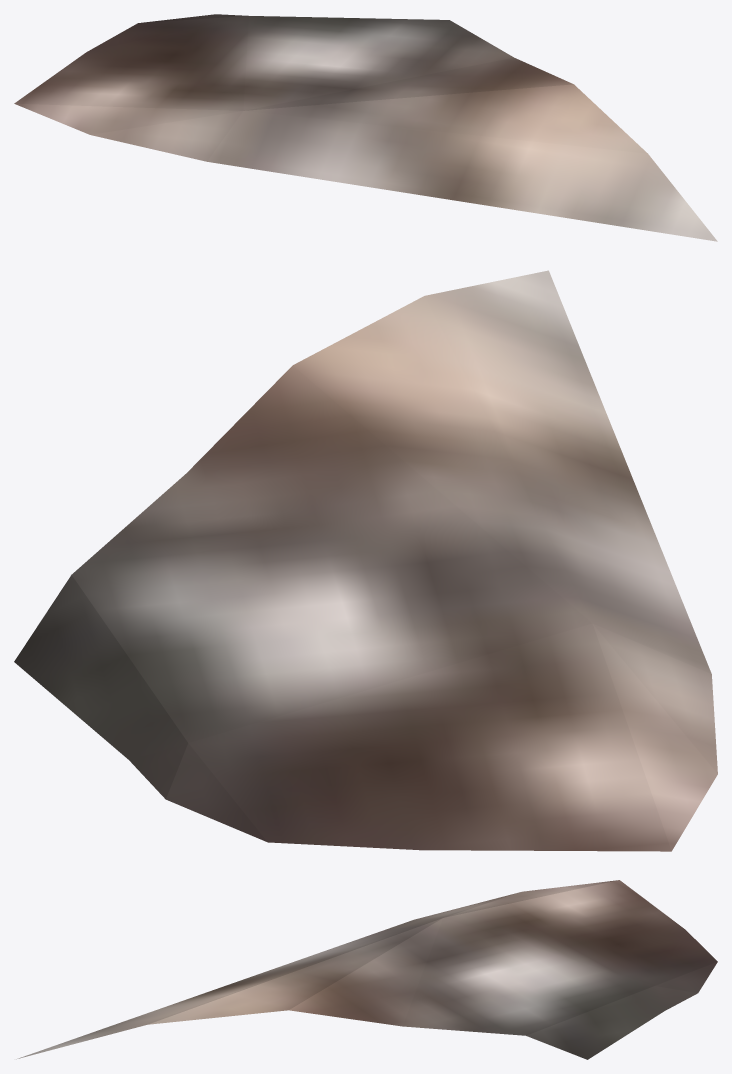
3 views of the same model, one above another, from view 1: azimuth 30°, elevation 25°; view 2: azimuth 150°, elevation 25°; view 3: azimuth 270°, elevation 25° (orthographic). The views are drawn at different scales.
Size of the model in its own units: 0.0799 by 0.0103 by 0.132.
Materials: 1 (1 with a texture image).
